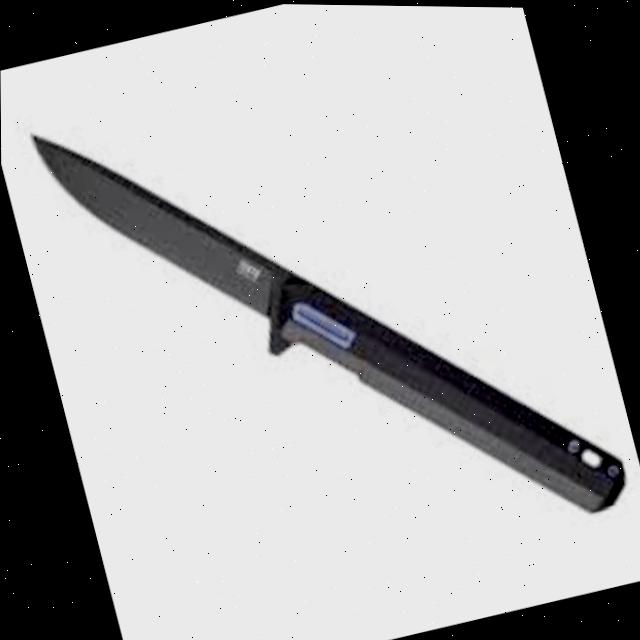Knife: (26, 12, 631, 621)
